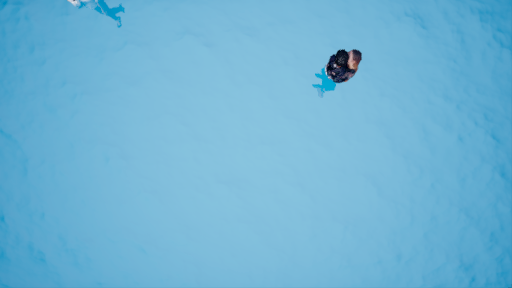person: (314, 49, 359, 103)
